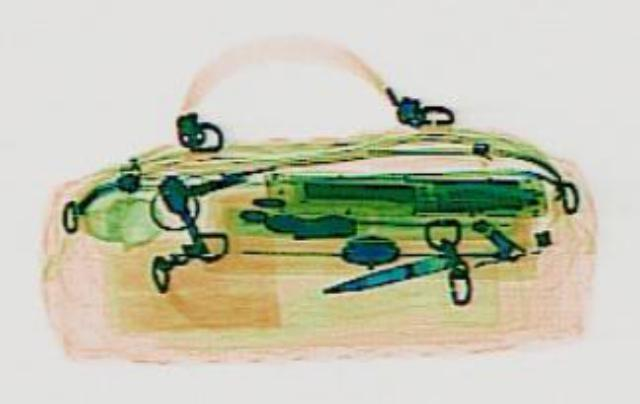Knife: (314, 248, 456, 295)
